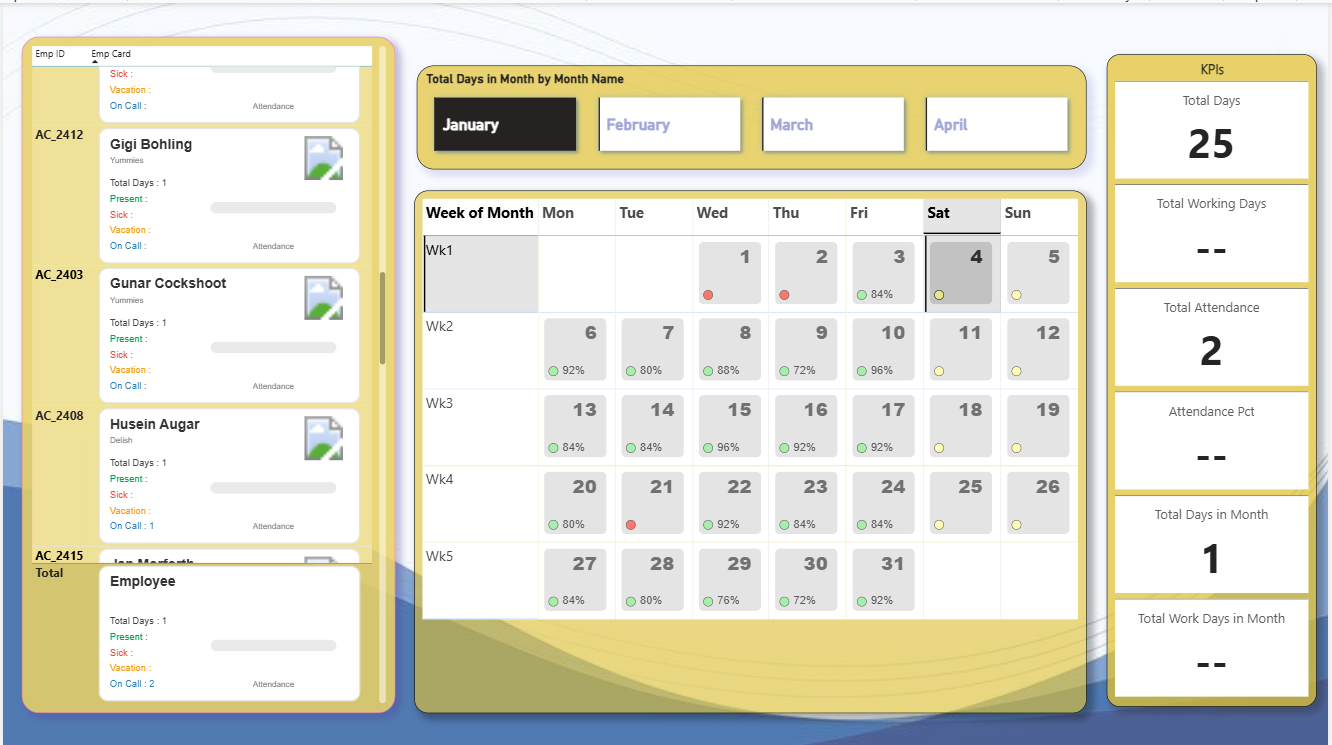

Layout of this report page (visuals, bound fields, positions):
{"tool":"powerbi","page":{"name":"Page 1","canvas":[1920,1080],"ordinal":0},"visuals":[{"type":"cardVisual","title":"KPIs","fields":{"Data":["_Measures.Total Days","_Measures.Total Working Days","_Measures.Total Attendance","_Measures.Attendance Pct","_Measures.Total Days in Month","_Measures.Total Work Days in Month"]},"box":[1597.9,74.2,304,944.6],"z":0},{"type":"advancedSlicerVisual","fields":{"Values":["Calendar.Month Name"]},"box":[599,90.5,970,150.2],"z":1000},{"type":"pivotTable","fields":{"Rows":["Calendar.Week of Month"],"Columns":["Calendar.Day of week"],"Values":["_Measures.SVG for Calendar"]},"box":[595.4,271.4,973.6,756.4],"z":2000},{"type":"tableEx","fields":{"Values":["People.Emp ID","_Measures.Emp Card"]},"box":[27.1,48.9,541.1,979],"z":3000}]}

Visuals, with their boxes in screenshot pixels (x1, y1, x2, y2), scaled from the page's 1920x1080 canvas onto the 1332x745 screenshot:
"KPIs" cardVisual: {"left": 1109, "top": 51, "right": 1319, "bottom": 703}
advancedSlicerVisual - Calendar.Month Name: {"left": 416, "top": 62, "right": 1088, "bottom": 166}
pivotTable - Calendar.Week of Month x Calendar.Day of week: {"left": 413, "top": 187, "right": 1088, "bottom": 709}
tableEx - People.Emp ID x _Measures.Emp Card: {"left": 19, "top": 34, "right": 394, "bottom": 709}
